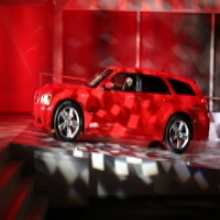no damage: (32, 64, 211, 153)
